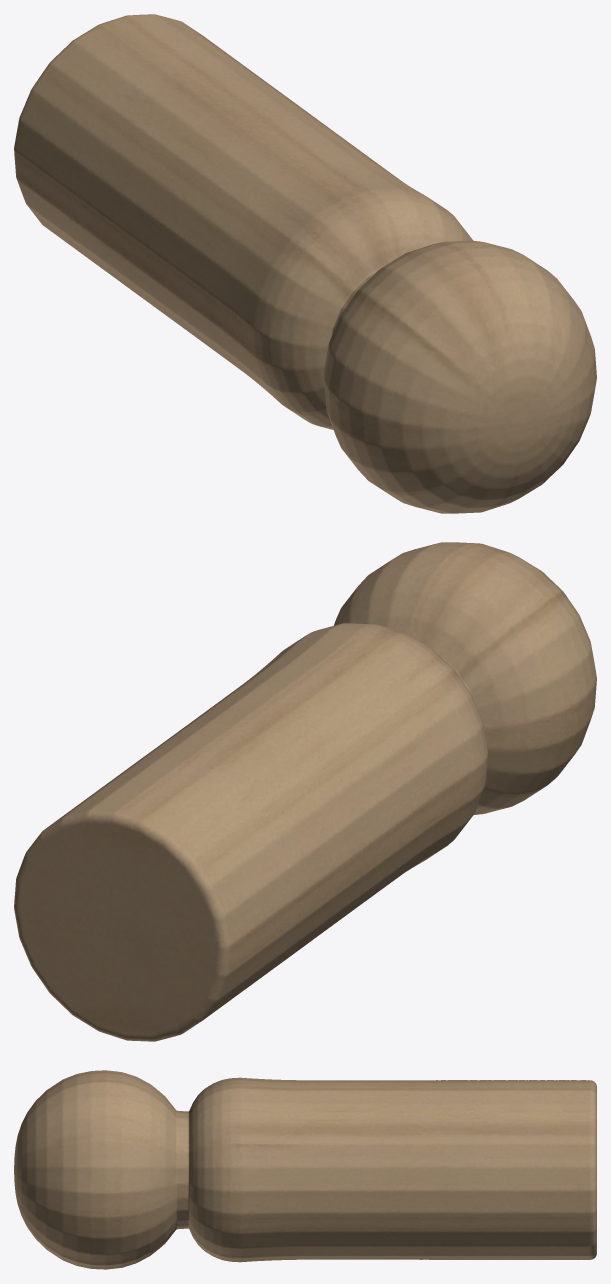
File: test-object-scaled.glb
3 renders of one model, top to bottom at view 1: azimuth 30°, elevation 25°; view 2: azimuth 150°, elevation 25°; view 3: azimuth 270°, elevation 25°, orthographic. The views are drawn at different scales.
Parts seen in each view (by area): view 1: geometry_0; view 2: geometry_0; view 3: geometry_0.
Part boxes in pixels (bbox=[...]): geometry_0: bbox=[14, 14, 596, 513]; geometry_0: bbox=[14, 542, 596, 1041]; geometry_0: bbox=[14, 1070, 596, 1269].
Size of the model in its own units: 0.0311 by 0.0309 by 0.0905.
Materials: 1 (1 with a texture image).
